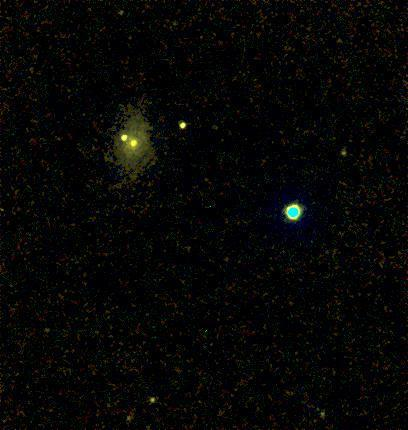star: (111, 118, 141, 148)
